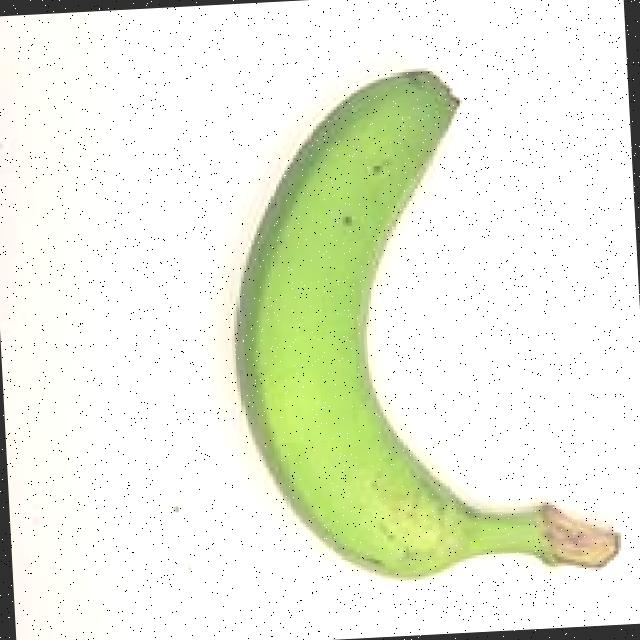Unripe: (207, 12, 637, 634)
